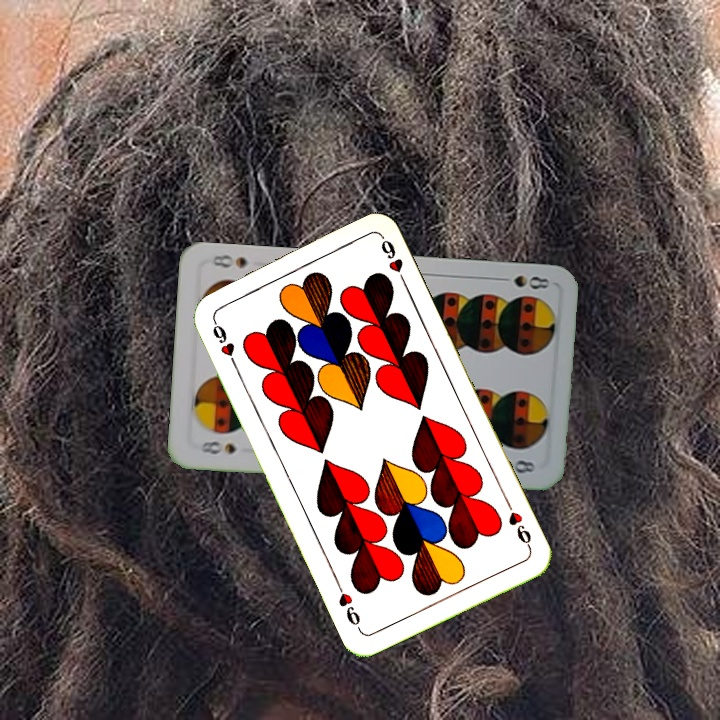H9: (501, 497, 534, 552), (208, 315, 240, 371)
S8: (493, 271, 551, 292), (197, 437, 239, 457)
